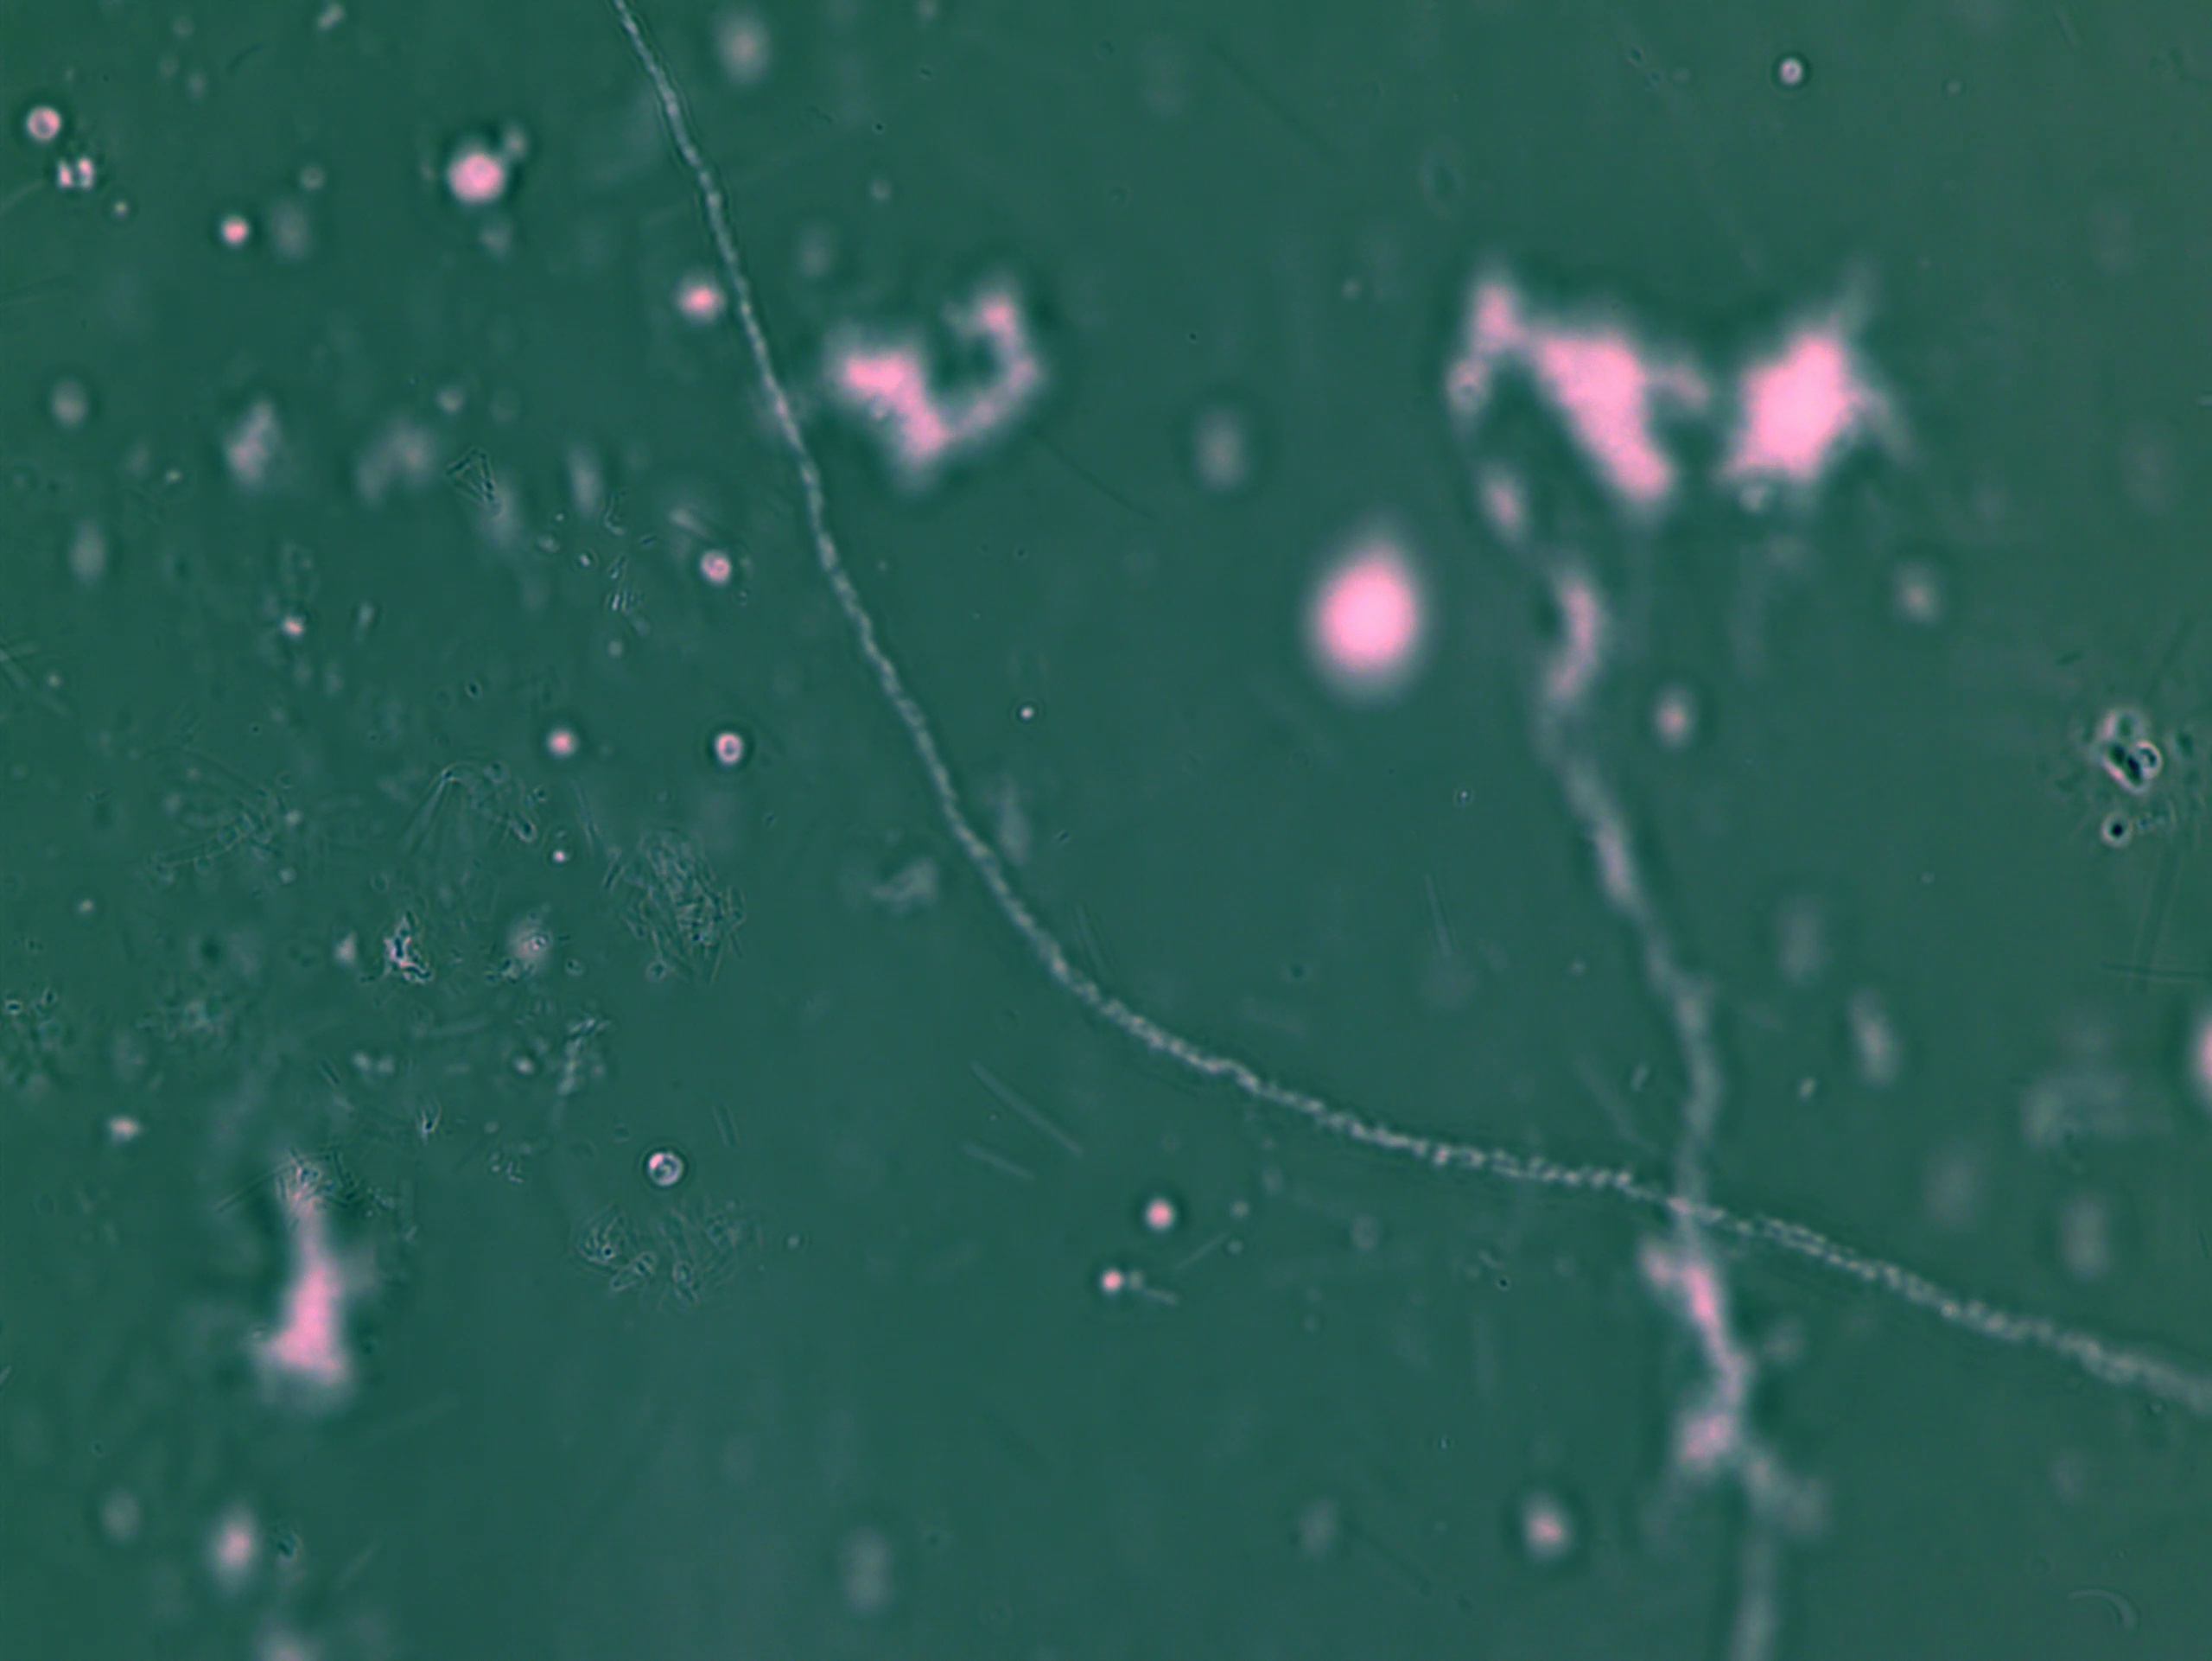depth:120: (1272, 515, 1478, 726)
